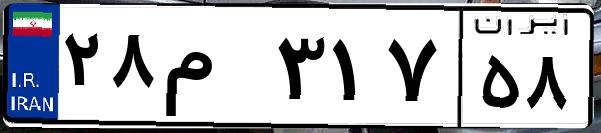1: (330, 28, 385, 110)
2: (57, 26, 110, 100)
3: (270, 28, 330, 110)
5: (475, 38, 525, 113)
7: (385, 28, 445, 110)
8: (525, 38, 570, 115), (110, 28, 158, 98)
م: (158, 20, 270, 120)
